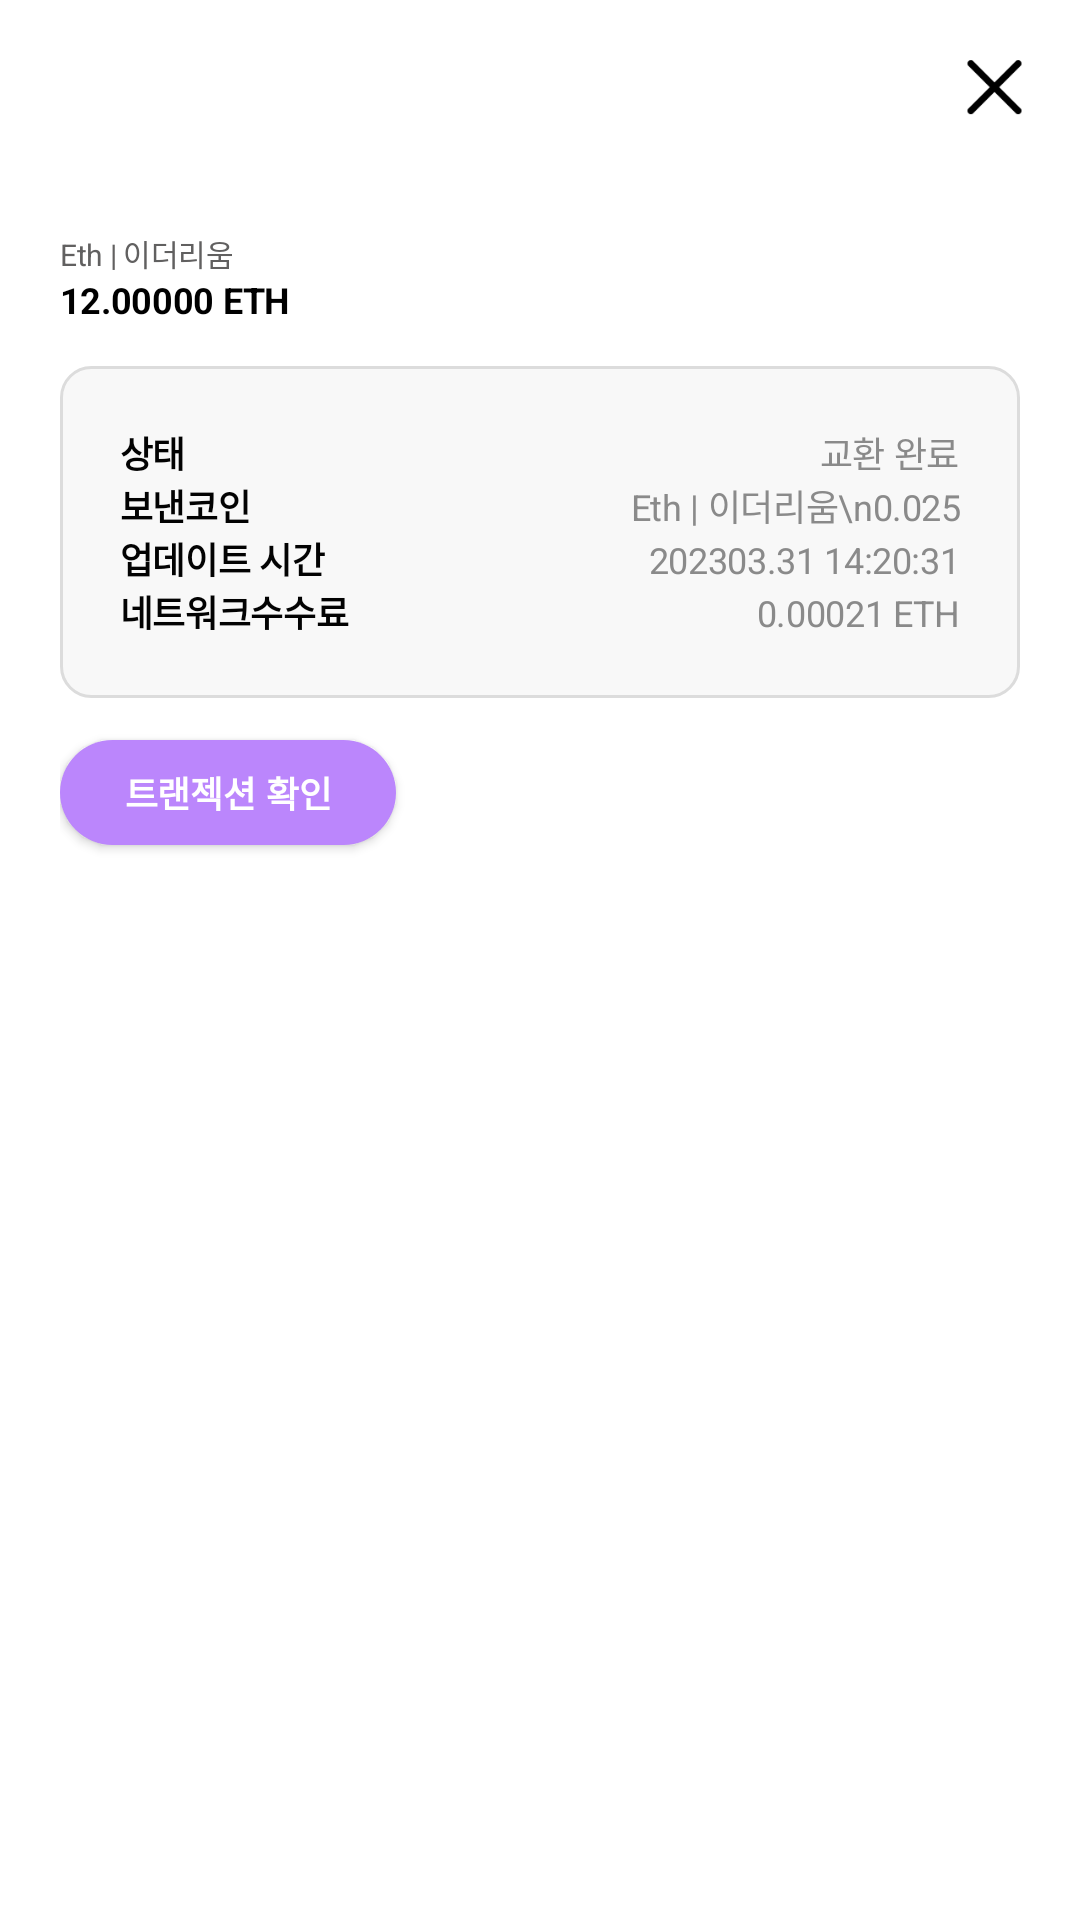

Screen size 1080px x 1920px. Icon name, then its center in pixels as point (x, y):
multiply: point (994, 87)
